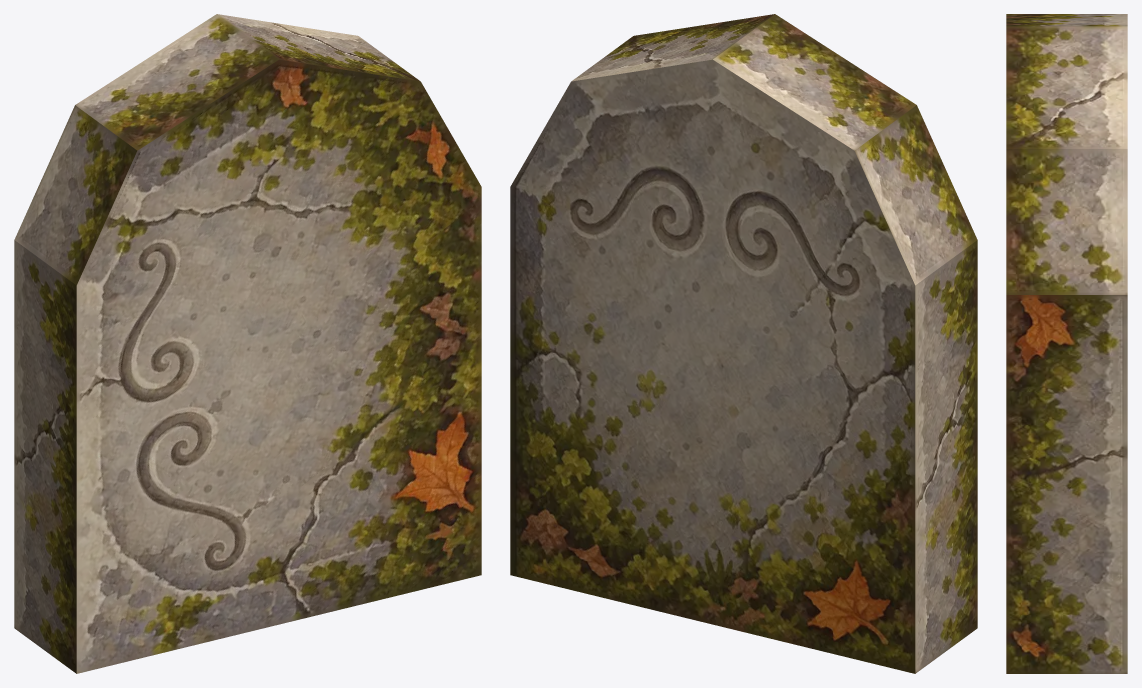
Rendered from tombstone.glb.
The picture shows the model from 3 angles, left to right: view 1: azimuth 30°, elevation 25°; view 2: azimuth 150°, elevation 25°; view 3: azimuth 270°, elevation 25°; orthographic projection. The views are drawn at different scales.
Parts seen in each view (by area): view 1: GEO-tombstone; view 2: GEO-tombstone; view 3: GEO-tombstone.
Boxes of the visible parts, <box> form: GEO-tombstone: <box>14,14,481,673</box>; GEO-tombstone: <box>510,14,977,673</box>; GEO-tombstone: <box>1006,14,1127,673</box>.
Size of the model in its own units: 0.6 by 0.8 by 0.16.
1 material, 1 textured.
